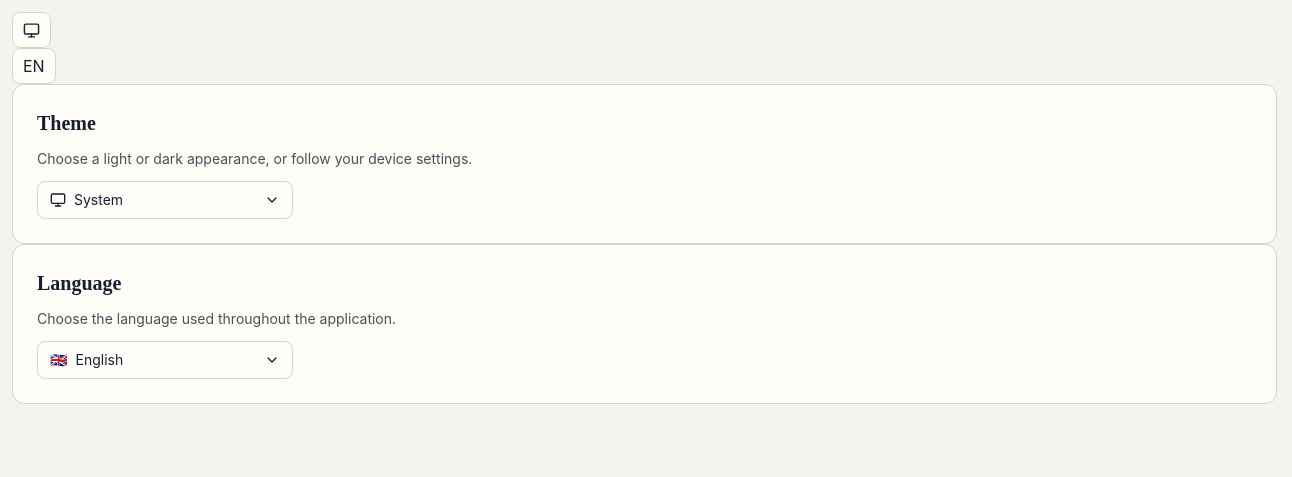
Scenario: distinguishes storage failure from account success and keeps the choice applied
Click the button named "Theme: System. Change theme" at point(32, 30), box x1=12 y1=12 x2=51 y2=48
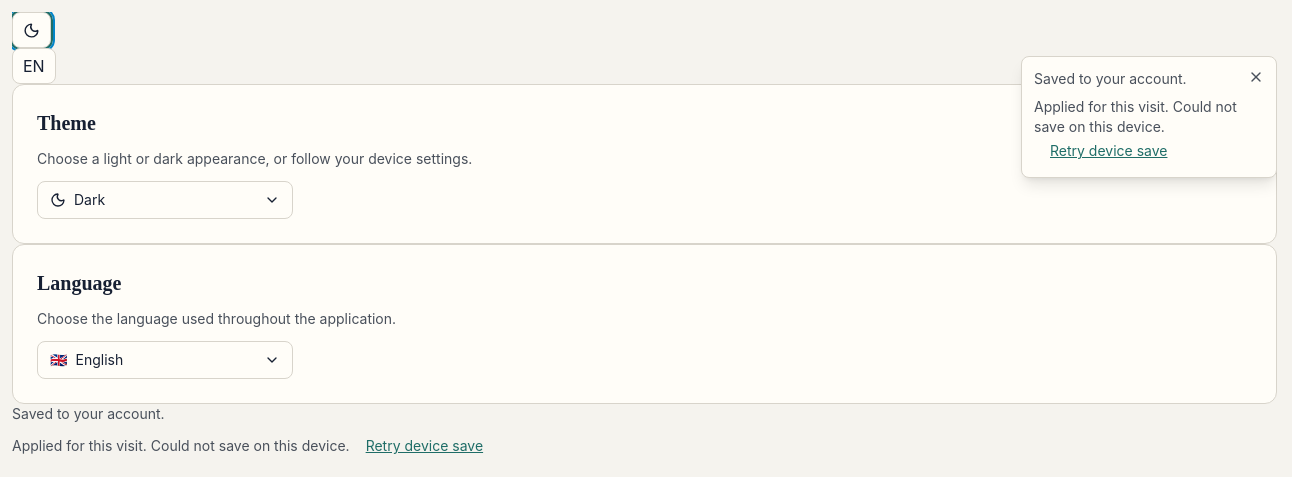
expect the text "Saved to your account." is shown 2 times: met, box x1=1034 y1=70 x2=1187 y2=87; x1=12 y1=405 x2=165 y2=422
expect the text "Applied for this visit. Could not save on this device." is shown 2 times: met, box x1=1034 y1=97 x2=1240 y2=165; x1=12 y1=432 x2=491 y2=460
